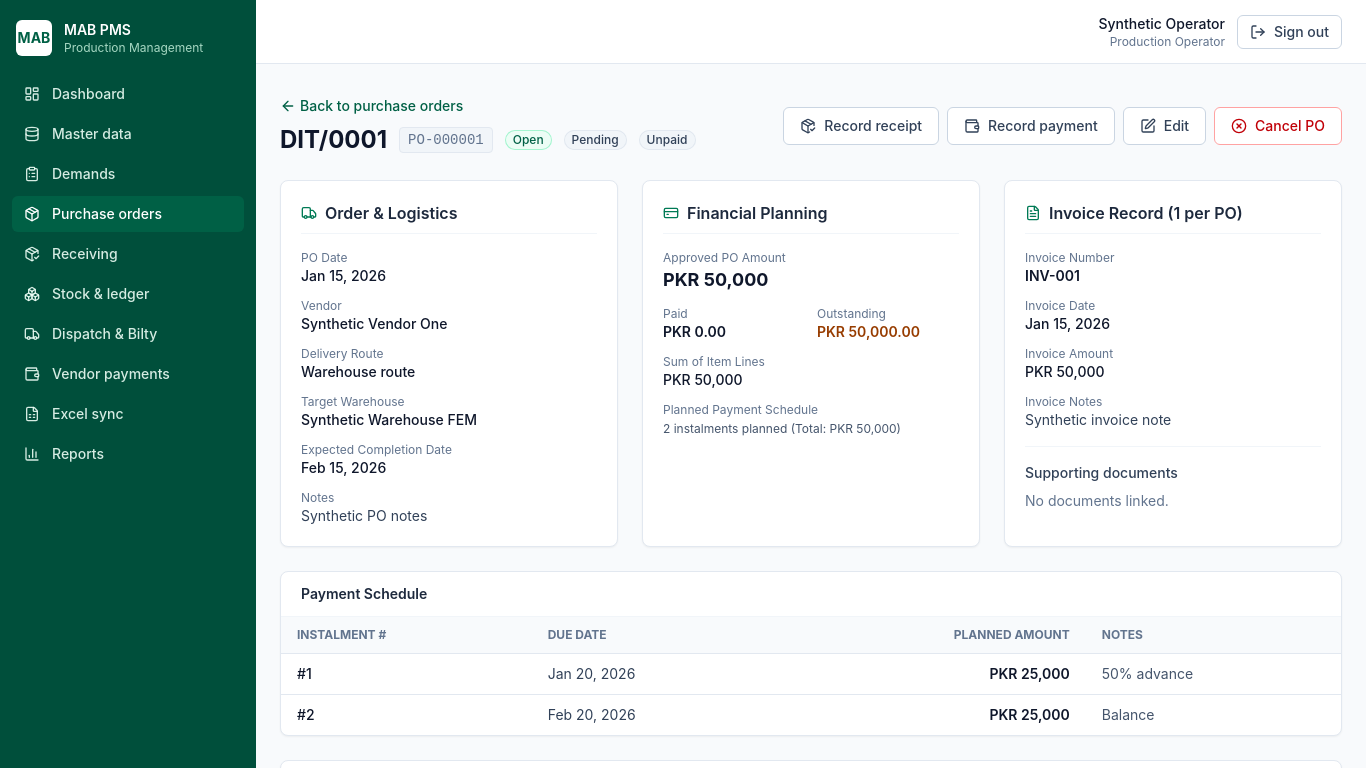
Scenario: Purchase order detail › cancels with a required reason, rev and CSRF token
The width and height of the screenshot is (1366, 768).
Step 1. Click the button "Cancel PO" → click(1278, 126), box left=1214, top=107, right=1342, bottom=145
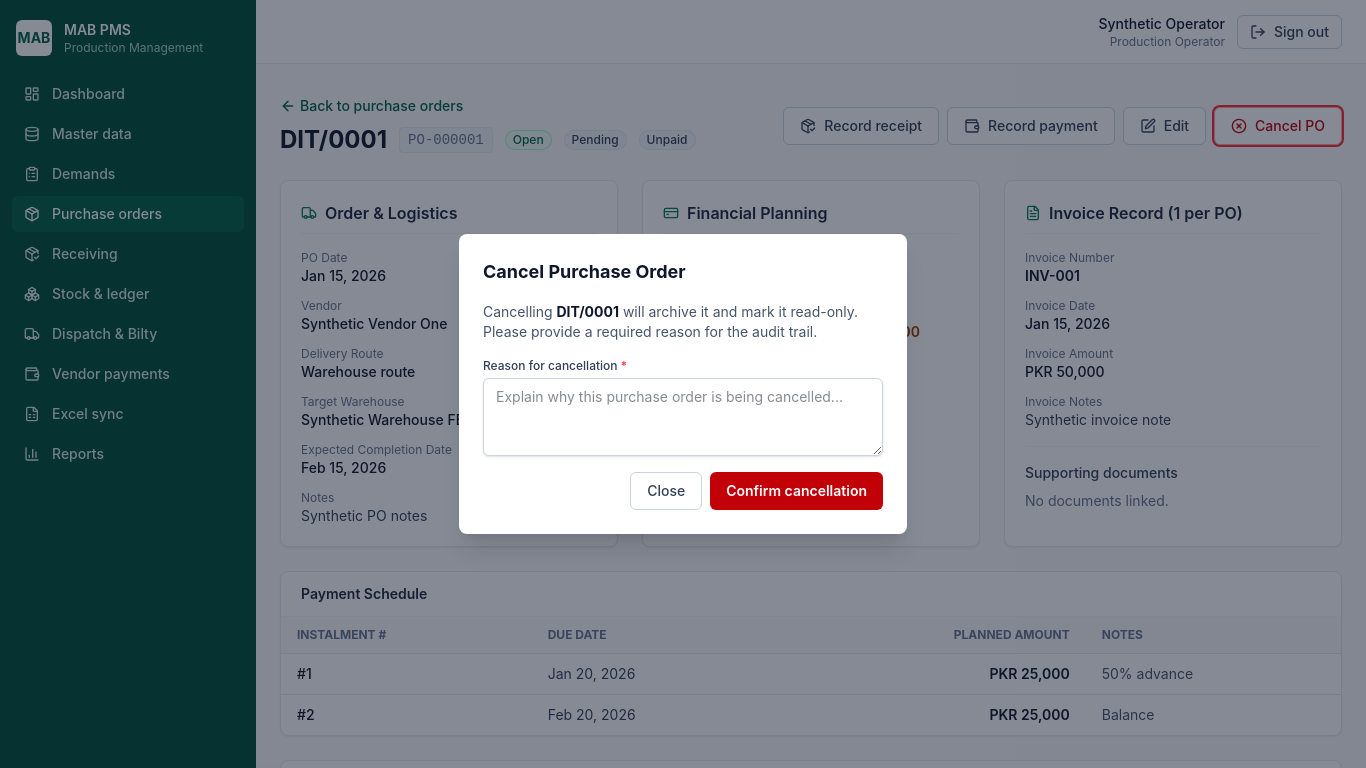
Now the dialog "Cancel Purchase Order" is shown
Step 2. Type "Synthetic supplier out of stock" into the text box with placeholder "Explain why this purchase order is being cancelled..." → (683, 417), box left=483, top=378, right=883, bottom=456
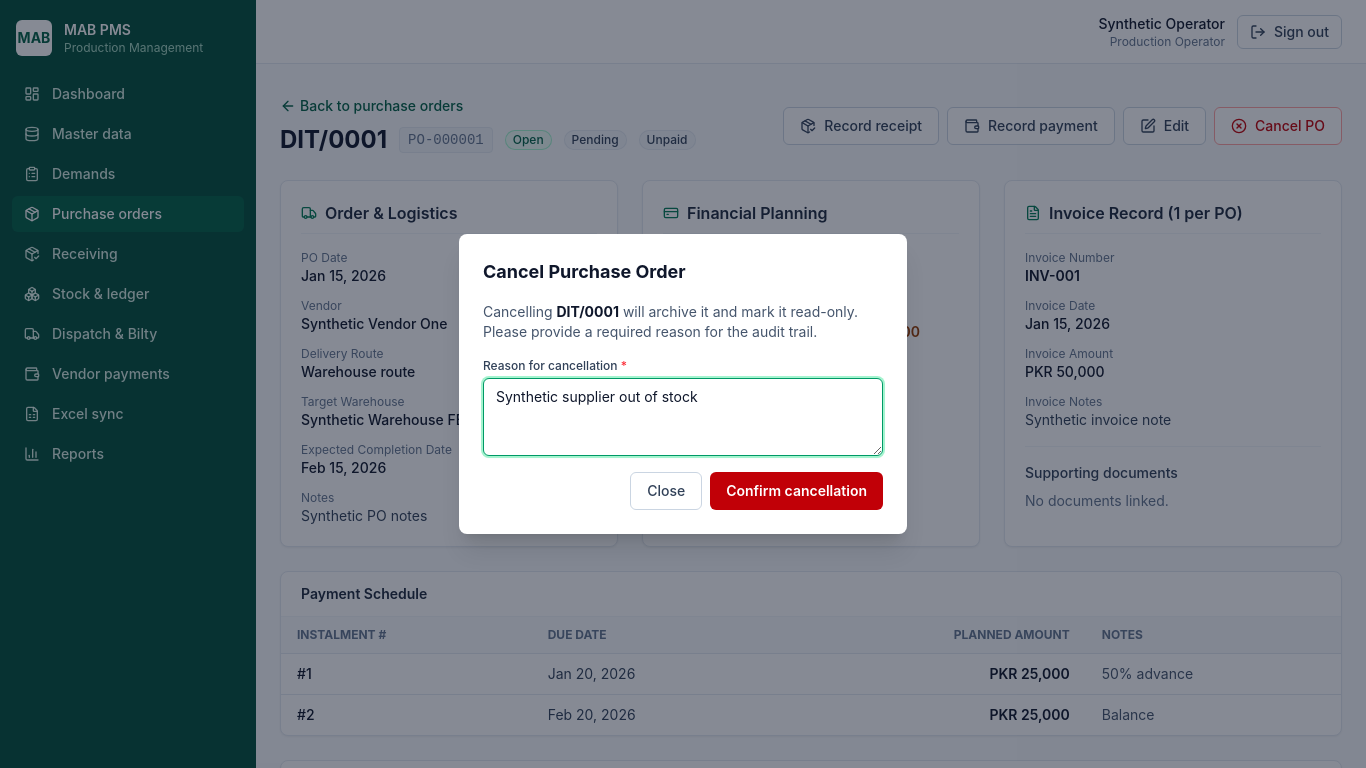
Step 3. Click the button "Confirm cancellation" → click(797, 491), box left=710, top=472, right=883, bottom=510
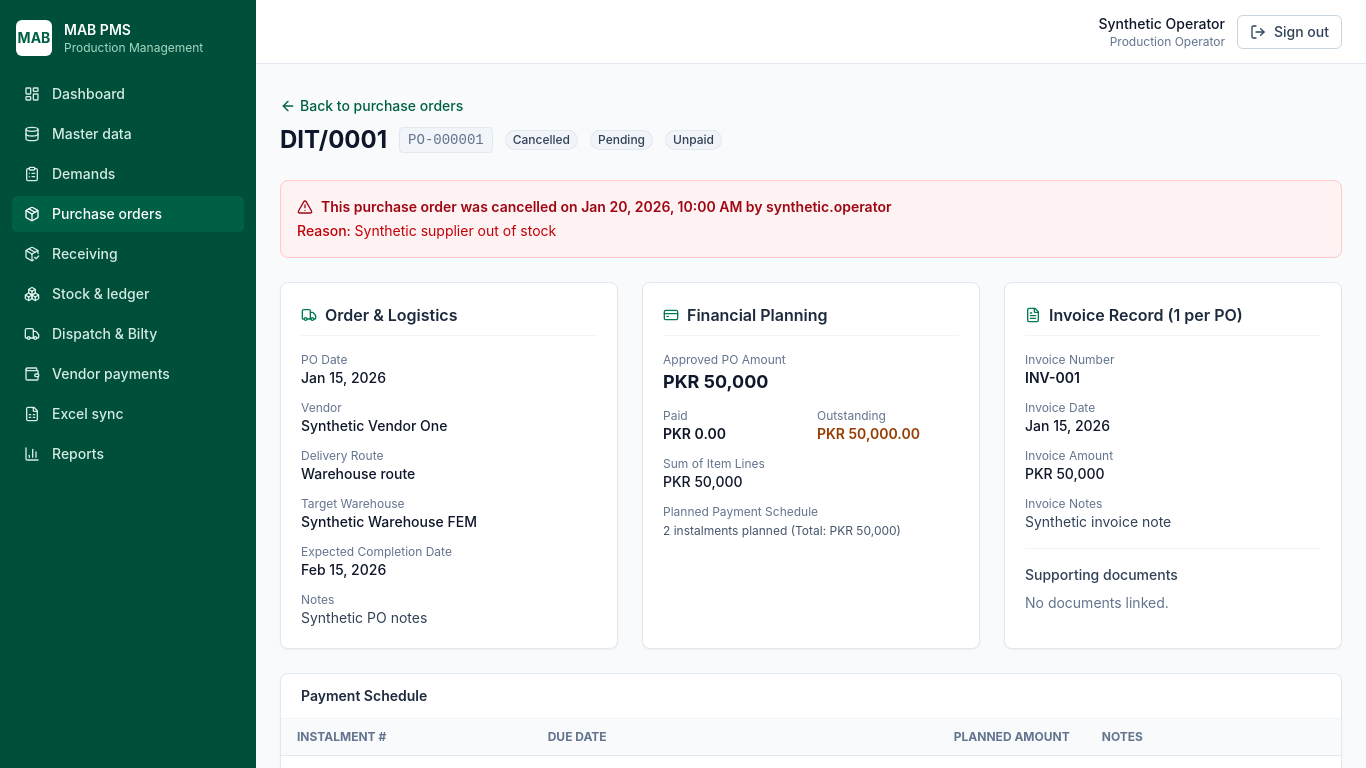
Now the dialog is gone
Now the text "This purchase order was cancelled on" is shown, box left=321, top=198, right=581, bottom=215
Now the text "Synthetic supplier out of stock" is shown, box left=355, top=222, right=556, bottom=239
